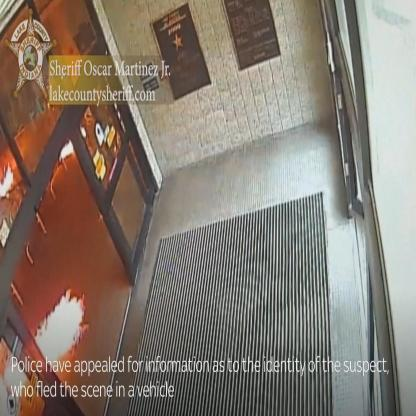fire: (34, 289, 88, 360), (0, 162, 13, 195)
